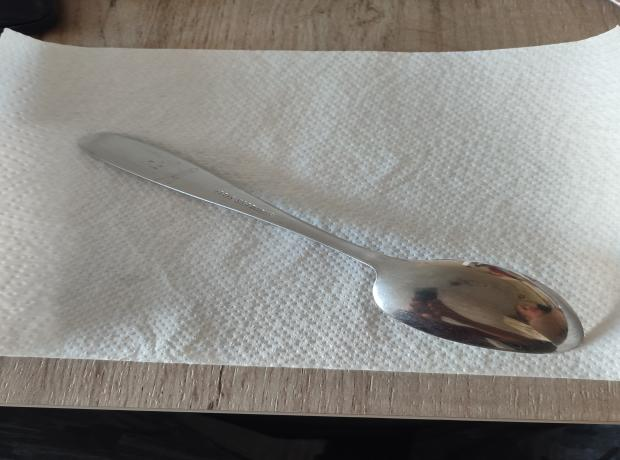metal: (76, 132, 589, 355)
